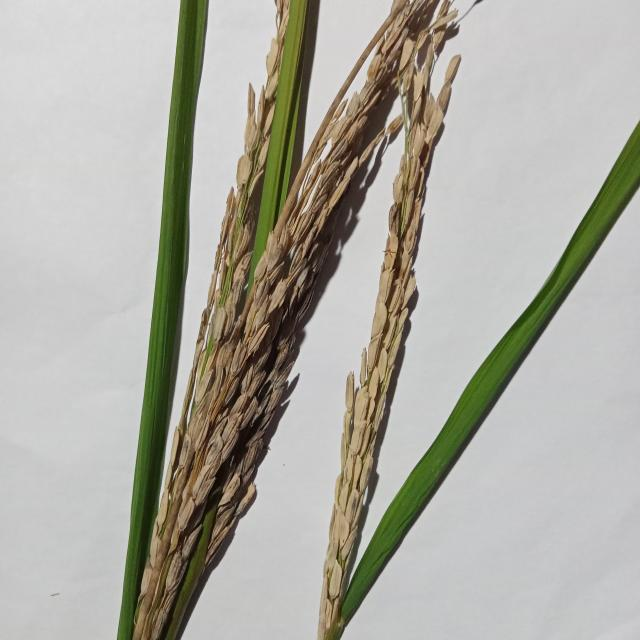Neck_Blast: (126, 5, 475, 640), (322, 16, 475, 638)
